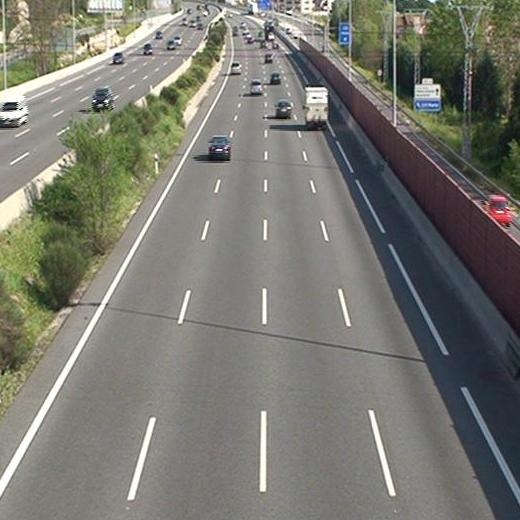car: (209, 137, 229, 156), (275, 101, 290, 116), (250, 81, 262, 94), (231, 61, 242, 74), (269, 73, 279, 84), (263, 53, 274, 63)
small-truck: (305, 87, 326, 125)
